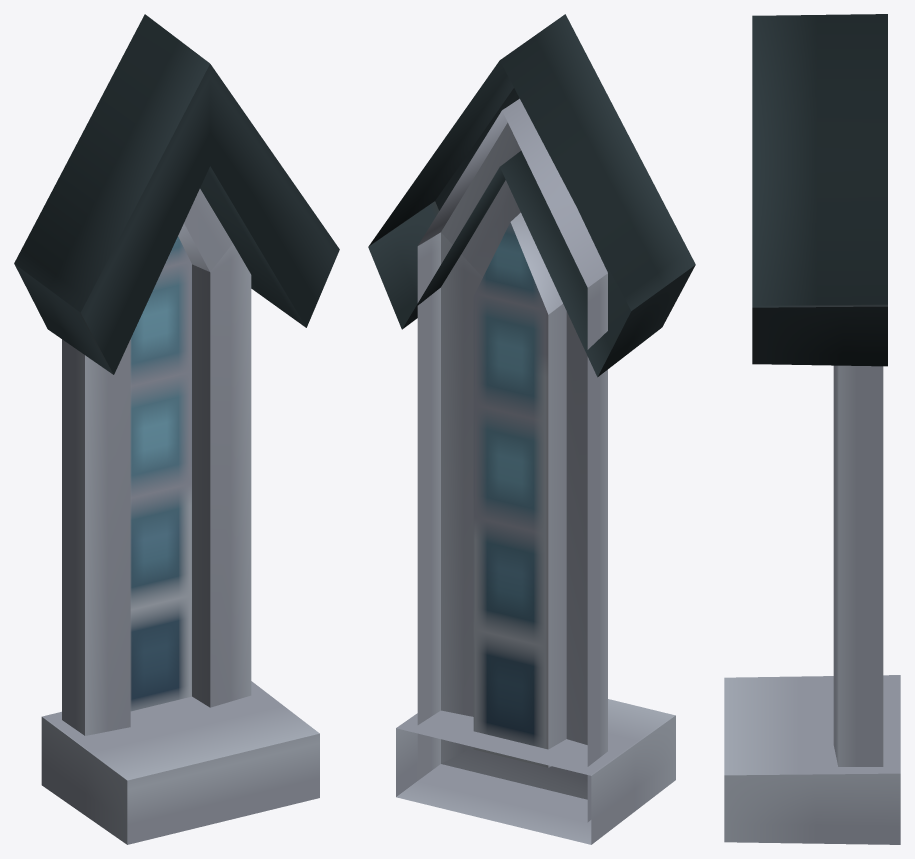
File: window_curch_v3_001.fbx
The picture shows the model from 3 angles, left to right: view 1: azimuth 30°, elevation 25°; view 2: azimuth 150°, elevation 25°; view 3: azimuth 270°, elevation 25°; orthographic projection. The views are drawn at different scales.
Parts seen in each view (by area): view 1: window_curch_v3_001; view 2: window_curch_v3_001; view 3: window_curch_v3_001.
Part boxes in pixels (x1,y1,x2,y2): window_curch_v3_001: (14, 14, 339, 844); window_curch_v3_001: (368, 14, 695, 844); window_curch_v3_001: (724, 14, 900, 844).
Size of the model in its own units: 67.6 by 186 by 37.93.
